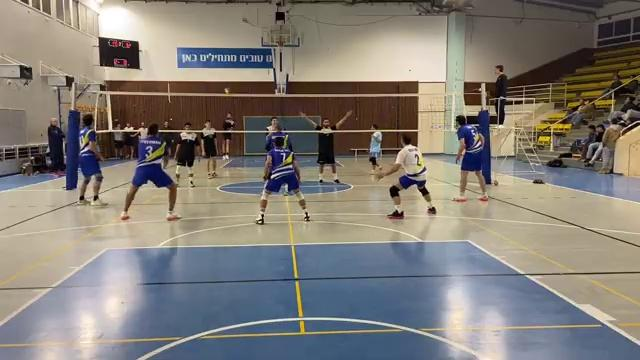ball: (218, 87, 233, 97)
